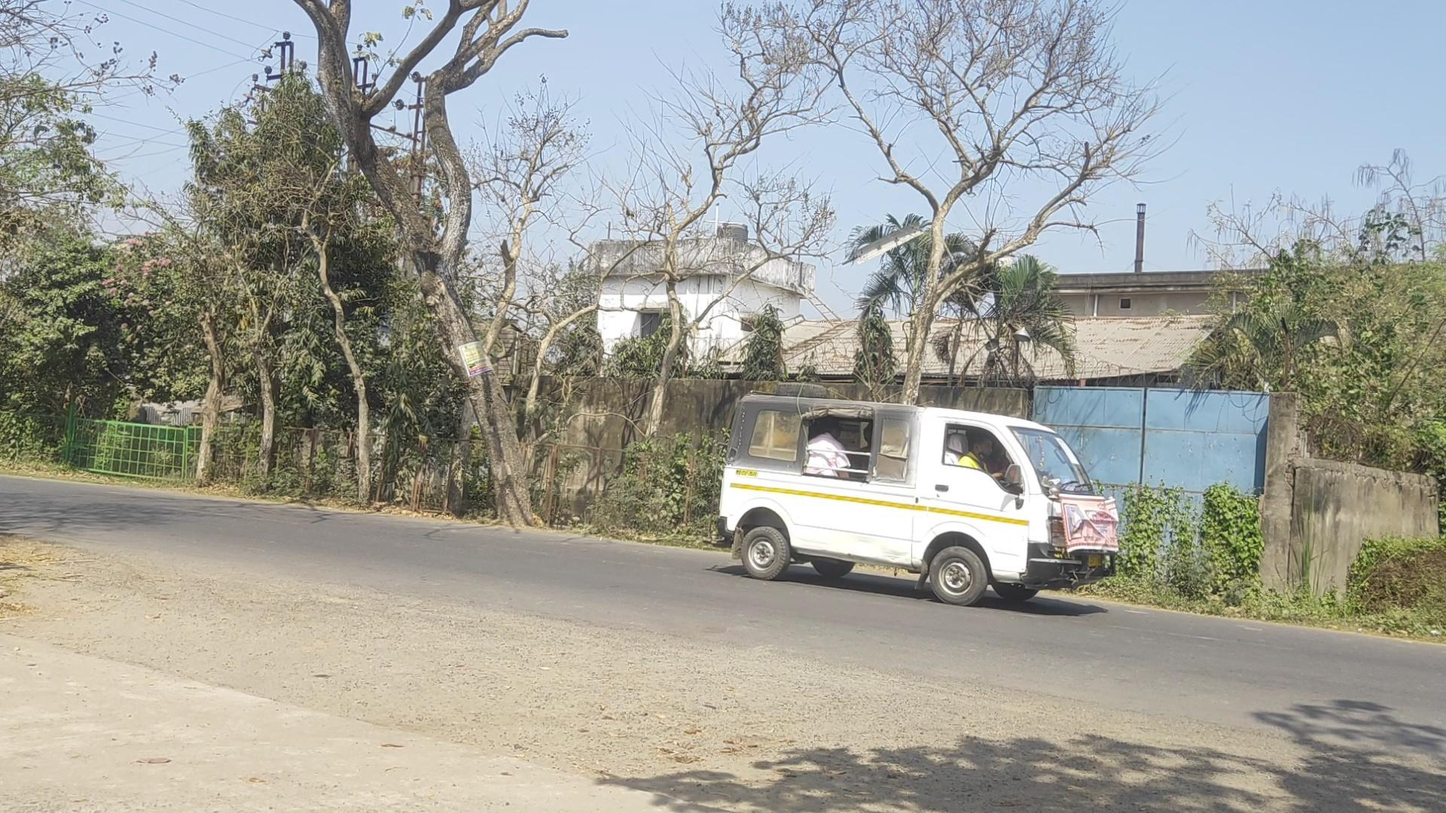van: (703, 382, 1118, 607)
